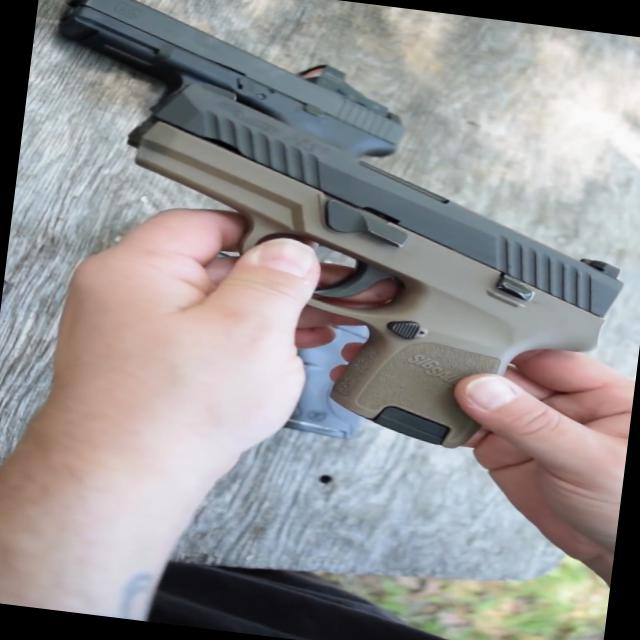handgun: (89, 68, 620, 480), (14, 0, 436, 256)
